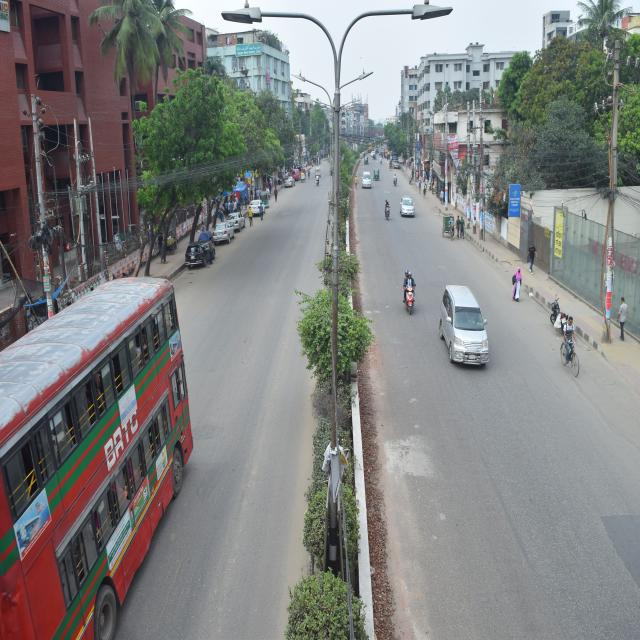bus: (8, 294, 204, 580)
car: (180, 226, 215, 281), (250, 188, 269, 223), (210, 216, 228, 250), (400, 195, 417, 223), (231, 211, 244, 240), (284, 177, 300, 198), (359, 173, 374, 191)
microbus: (435, 268, 487, 381)
motorbike: (398, 268, 426, 320), (554, 291, 579, 338), (383, 195, 391, 233), (392, 171, 402, 193)
